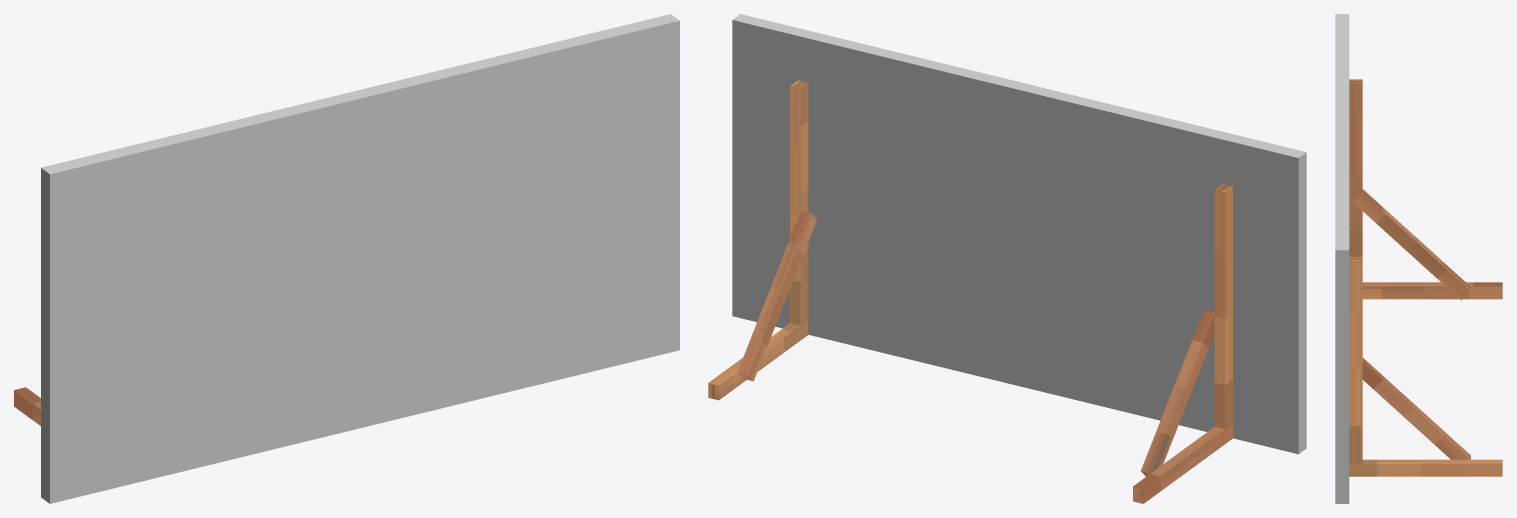
The model's file is falsewall1.glb.
The picture shows the model from 3 angles, left to right: view 1: azimuth 30°, elevation 25°; view 2: azimuth 150°, elevation 25°; view 3: azimuth 270°, elevation 25°; orthographic projection. The views are drawn at different scales.
Parts seen in each view (by area): view 1: Cube; view 2: Cube; view 3: Cube.
Boxes of the visible parts, box(x1,y1,x2,y2) form: Cube: box(14, 14, 679, 503); Cube: box(708, 14, 1306, 503); Cube: box(1335, 14, 1502, 503).
Size of the model in its own units: 4 by 2 by 1.2.
1 material, 1 textured.
